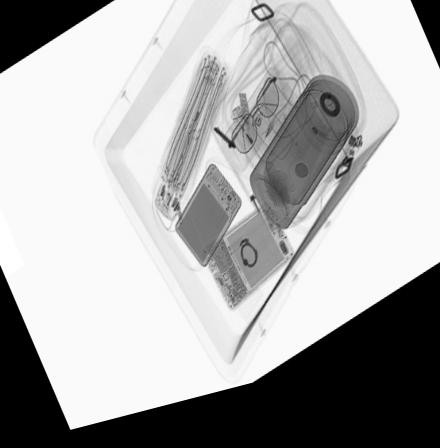Lighter: (231, 116, 263, 169)
